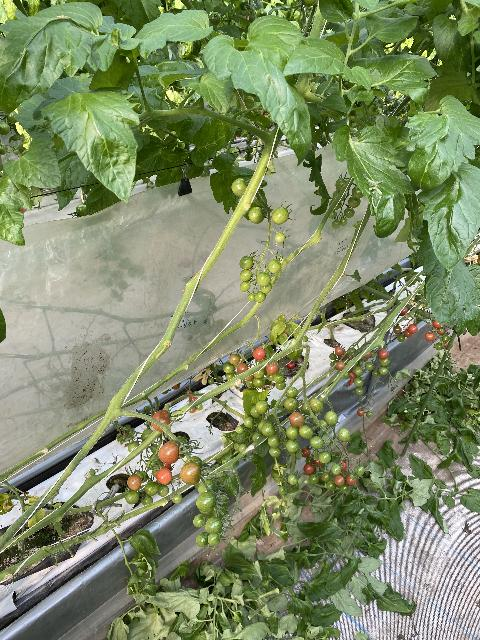l_fully_ripened: (156, 467, 172, 484), (253, 347, 266, 360), (345, 474, 357, 485), (303, 463, 314, 474), (312, 457, 323, 468), (337, 460, 347, 472), (301, 447, 311, 458), (407, 324, 418, 334), (378, 350, 389, 359), (335, 346, 344, 356), (400, 306, 409, 316), (286, 360, 295, 369), (433, 320, 441, 328)
l_green: (168, 436, 189, 459), (196, 491, 216, 512), (205, 517, 223, 535), (271, 207, 289, 225), (231, 178, 248, 196), (248, 206, 264, 224), (198, 480, 215, 495), (183, 456, 202, 469), (144, 481, 159, 496), (196, 532, 210, 548), (261, 421, 275, 437), (125, 490, 139, 505), (239, 255, 253, 270), (299, 424, 313, 439), (324, 411, 338, 426), (193, 514, 207, 528), (257, 272, 271, 286), (255, 400, 269, 414), (309, 398, 323, 412), (283, 398, 298, 411), (286, 424, 299, 439), (309, 436, 324, 449), (152, 465, 166, 478), (268, 259, 281, 273), (337, 428, 350, 442), (268, 434, 281, 447), (285, 386, 298, 399), (286, 440, 299, 453), (351, 186, 364, 199), (335, 178, 348, 191), (250, 404, 262, 418), (332, 190, 346, 202), (135, 471, 148, 483), (127, 441, 140, 453), (208, 533, 220, 546), (240, 269, 252, 282), (319, 451, 331, 464), (348, 196, 361, 208), (141, 429, 153, 441), (157, 485, 169, 497), (269, 446, 281, 458), (329, 199, 342, 210), (141, 495, 153, 506), (260, 283, 272, 294), (255, 291, 266, 303), (253, 377, 265, 388), (273, 372, 285, 383), (244, 416, 255, 428), (258, 420, 269, 432), (287, 473, 298, 485), (240, 281, 251, 292), (326, 480, 337, 491), (344, 207, 355, 218), (331, 463, 341, 475), (301, 402, 310, 415), (146, 460, 157, 470), (275, 232, 285, 243), (223, 363, 234, 373), (252, 432, 263, 442), (308, 474, 319, 484), (354, 466, 365, 476), (253, 369, 265, 378), (172, 494, 182, 504), (340, 482, 350, 492), (354, 366, 364, 376), (354, 377, 364, 387), (275, 381, 286, 390), (150, 444, 160, 453), (239, 443, 248, 453), (321, 472, 330, 482), (331, 220, 341, 229), (365, 362, 375, 371), (379, 358, 390, 366), (235, 425, 244, 434), (278, 486, 287, 495), (318, 420, 327, 429), (379, 366, 388, 375), (348, 347, 357, 356), (225, 372, 235, 380), (305, 456, 313, 466), (247, 379, 255, 388), (329, 210, 337, 219), (342, 370, 350, 379), (397, 334, 406, 342), (442, 333, 450, 342), (266, 373, 274, 381), (355, 387, 363, 395), (248, 293, 255, 302), (233, 442, 240, 451), (340, 218, 347, 226), (329, 353, 337, 360), (372, 370, 380, 377), (435, 343, 443, 350), (366, 411, 372, 418), (371, 351, 376, 358), (350, 474, 356, 479)
l_half_ripened: (158, 442, 180, 464), (180, 462, 201, 485), (150, 410, 171, 432), (289, 412, 305, 427), (127, 475, 142, 490), (265, 362, 279, 374), (237, 362, 248, 374), (334, 474, 345, 486), (229, 354, 240, 365), (335, 361, 346, 371), (338, 350, 348, 360), (404, 328, 413, 338), (425, 332, 435, 341), (363, 351, 372, 359), (393, 326, 402, 334), (357, 409, 365, 417), (437, 327, 446, 334)
